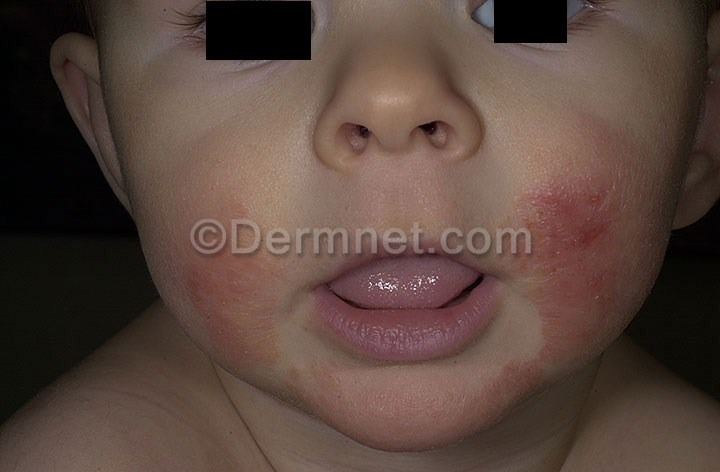Eczema: (507, 116, 666, 372), (166, 194, 302, 409), (301, 367, 503, 444)
